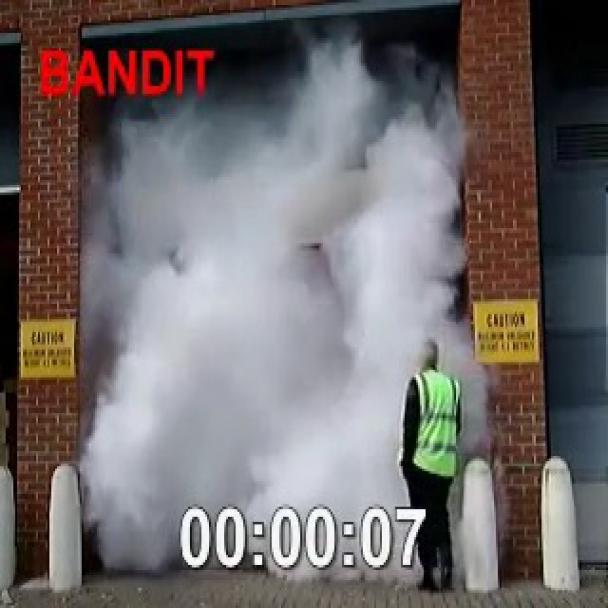smoke: (82, 18, 498, 566)
